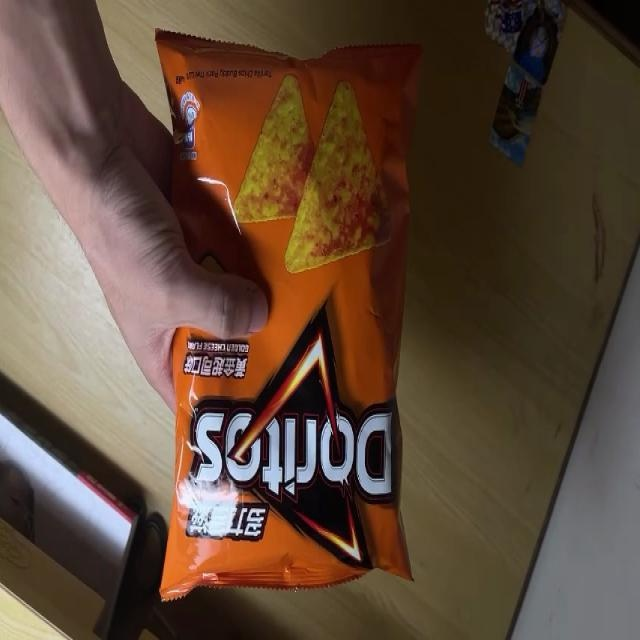Doritos: (148, 25, 424, 602)
